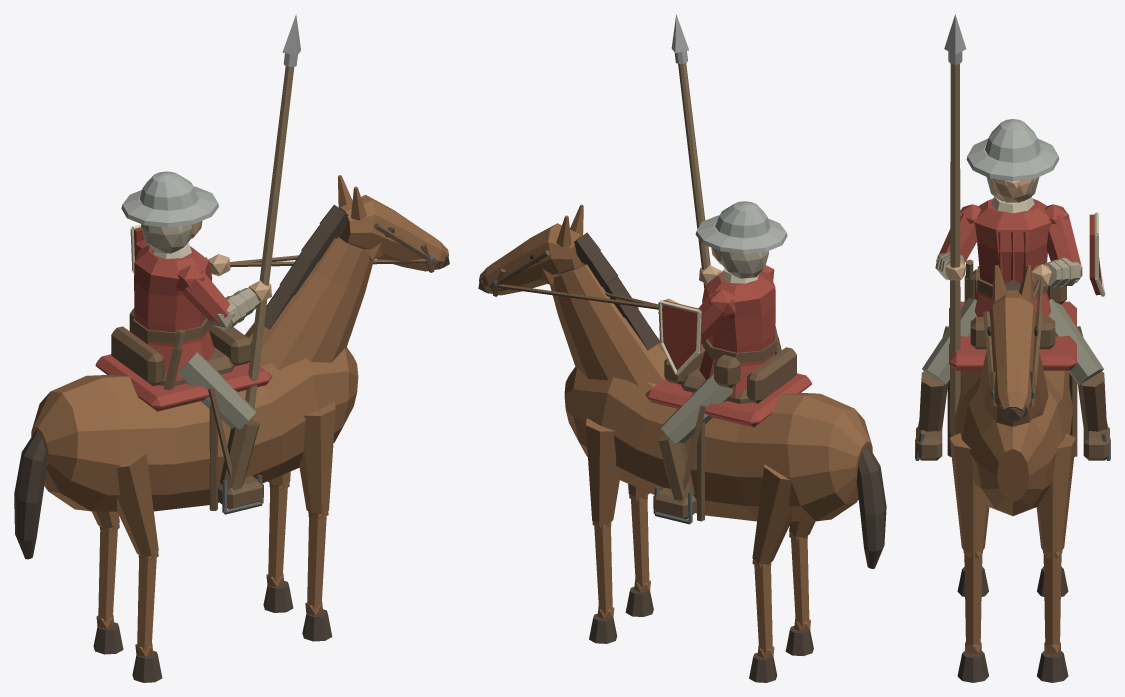
Rendered from cavalry_light.glb.
3 views of the same model, side by side, from view 1: azimuth 30°, elevation 25°; view 2: azimuth 150°, elevation 25°; view 3: azimuth 270°, elevation 25° (orthographic). The views are drawn at different scales.
Visible parts, largest first — view 1: cavalry_light_horse, cavalry_light_team_cloth, cavalry_light_leather, cavalry_light_mane, cavalry_light_steel, cavalry_light_oak, cavalry_light_hose, cavalry_light_padded_linen, cavalry_light_skin; view 2: cavalry_light_horse, cavalry_light_leather, cavalry_light_team_cloth, cavalry_light_mane, cavalry_light_steel, cavalry_light_hose, cavalry_light_team_paint, cavalry_light_oak, cavalry_light_linen, cavalry_light_padded_linen; view 3: cavalry_light_horse, cavalry_light_team_cloth, cavalry_light_leather, cavalry_light_steel, cavalry_light_oak, cavalry_light_hose, cavalry_light_mane, cavalry_light_skin, cavalry_light_padded_linen, cavalry_light_linen, cavalry_light_team_paint.
Part boxes in pixels (bbox=[...]): cavalry_light_horse: bbox=[31, 175, 449, 657]; cavalry_light_team_cloth: bbox=[95, 239, 272, 411]; cavalry_light_leather: bbox=[111, 223, 434, 510]; cavalry_light_mane: bbox=[14, 204, 449, 682]; cavalry_light_steel: bbox=[121, 14, 300, 227]; cavalry_light_oak: bbox=[245, 66, 294, 420]; cavalry_light_hose: bbox=[179, 352, 256, 429]; cavalry_light_padded_linen: bbox=[141, 224, 259, 329]; cavalry_light_skin: bbox=[191, 221, 271, 301]; cavalry_light_horse: bbox=[479, 204, 872, 658]; cavalry_light_leather: bbox=[493, 250, 796, 521]; cavalry_light_team_cloth: bbox=[645, 265, 811, 427]; cavalry_light_mane: bbox=[478, 232, 886, 682]; cavalry_light_steel: bbox=[671, 14, 787, 253]; cavalry_light_hose: bbox=[660, 373, 732, 444]; cavalry_light_team_paint: bbox=[662, 300, 702, 370]; cavalry_light_oak: bbox=[678, 63, 710, 287]; cavalry_light_linen: bbox=[658, 268, 759, 375]; cavalry_light_padded_linen: bbox=[701, 251, 768, 346]; cavalry_light_horse: bbox=[949, 265, 1076, 654]; cavalry_light_team_cloth: bbox=[939, 198, 1081, 370]; cavalry_light_leather: bbox=[916, 266, 1109, 460]; cavalry_light_steel: bbox=[944, 14, 1059, 181]; cavalry_light_oak: bbox=[949, 64, 960, 435]; cavalry_light_hose: bbox=[922, 298, 1103, 385]; cavalry_light_mane: bbox=[957, 280, 1068, 682]; cavalry_light_skin: bbox=[945, 178, 1051, 286]; cavalry_light_padded_linen: bbox=[935, 177, 1082, 287]; cavalry_light_linen: bbox=[991, 196, 1105, 296]; cavalry_light_team_paint: bbox=[1089, 214, 1101, 295].
Size of the model in its own units: 2.81 by 3.96 by 1.09.
